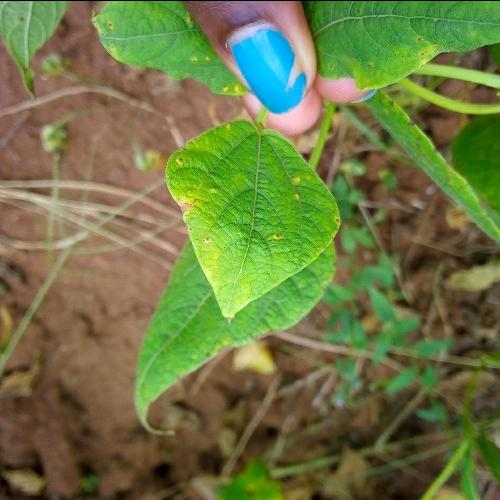hawar: (158, 84, 338, 314)
